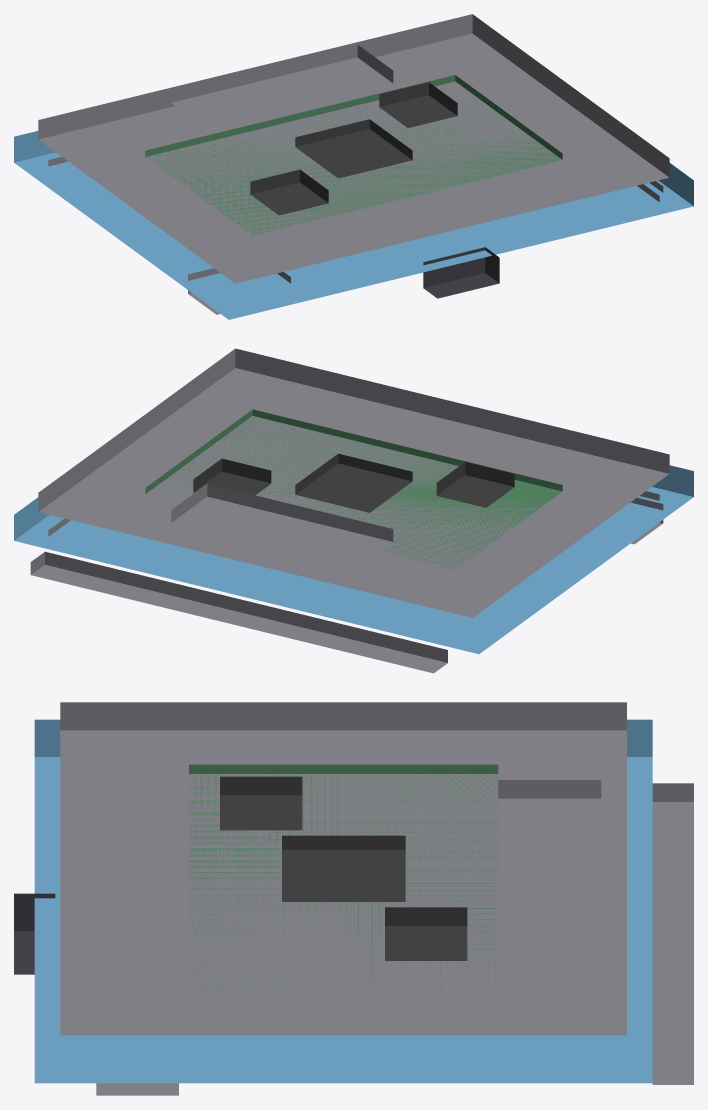
Rendered from top_screen.gltf.
3 renders of one model, top to bottom at view 1: azimuth 30°, elevation 25°; view 2: azimuth 150°, elevation 25°; view 3: azimuth 270°, elevation 25°, orthographic. The views are drawn at different scales.
Parts seen in each view (by area): view 1: top_screen; view 2: top_screen; view 3: top_screen.
Part boxes in pixels (box(x1,y1,x2,y2)): top_screen: box(14, 14, 693, 319); top_screen: box(14, 348, 693, 673); top_screen: box(14, 702, 693, 1095).
Bounding box in the file's own units: 0.075 × 0.0115 × 0.066.
